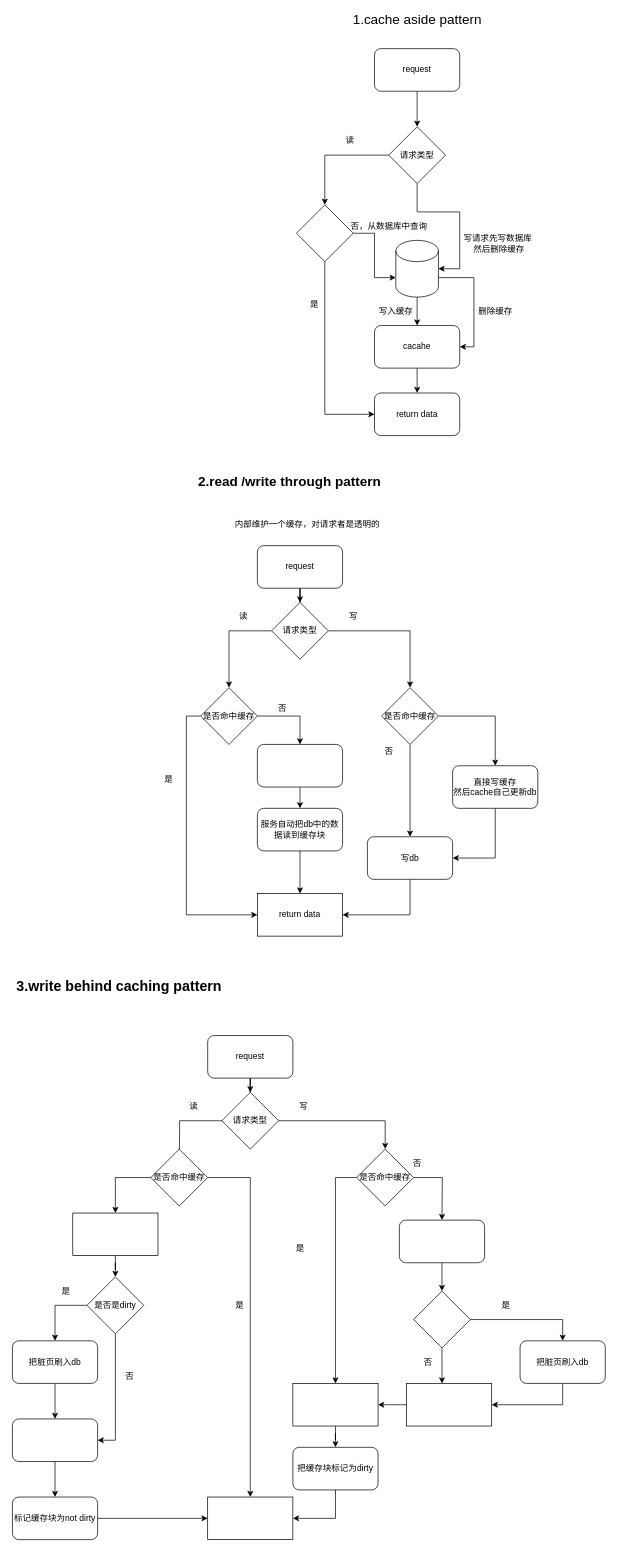
This 618x1552 diagram has some shape labels left out. The centre of each missing label's shape, as x and y in pixels:
"db" belongs at (x=416, y=268).
"return" belongs at (x=250, y=1518).
"命中缓存？" belongs at (x=324, y=233).
"找一个缓存块" belongs at (x=442, y=1241).
"找到一个缓存块" belongs at (x=115, y=1234).
"把db中的数据加载到缓存块" belongs at (x=449, y=1404).
"把新数据写入缓存块" belongs at (x=335, y=1404).
"是不是dirty" belongs at (x=441, y=1319).
"确定一个缓存块" belongs at (x=300, y=765).
"重新加载数据到 缓存页" belongs at (x=55, y=1440).
